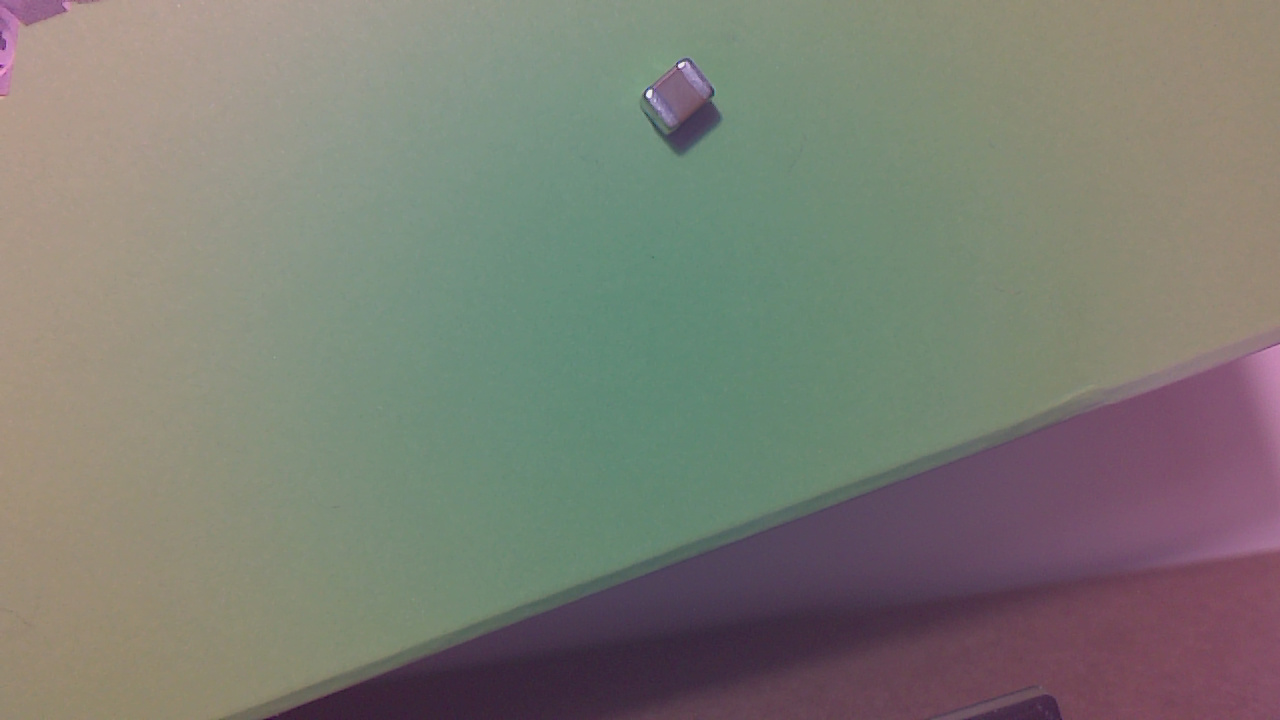Condensator: (644, 63, 725, 141)
